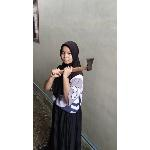Kapak: (46, 56, 98, 78)
